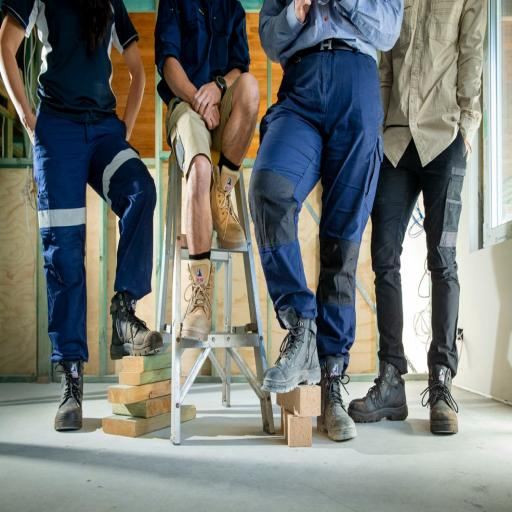safety_boots: (258, 310, 322, 398), (417, 358, 469, 440), (357, 358, 409, 431), (104, 293, 158, 360), (49, 361, 95, 437), (215, 166, 255, 252), (179, 260, 220, 340), (323, 360, 355, 442)
